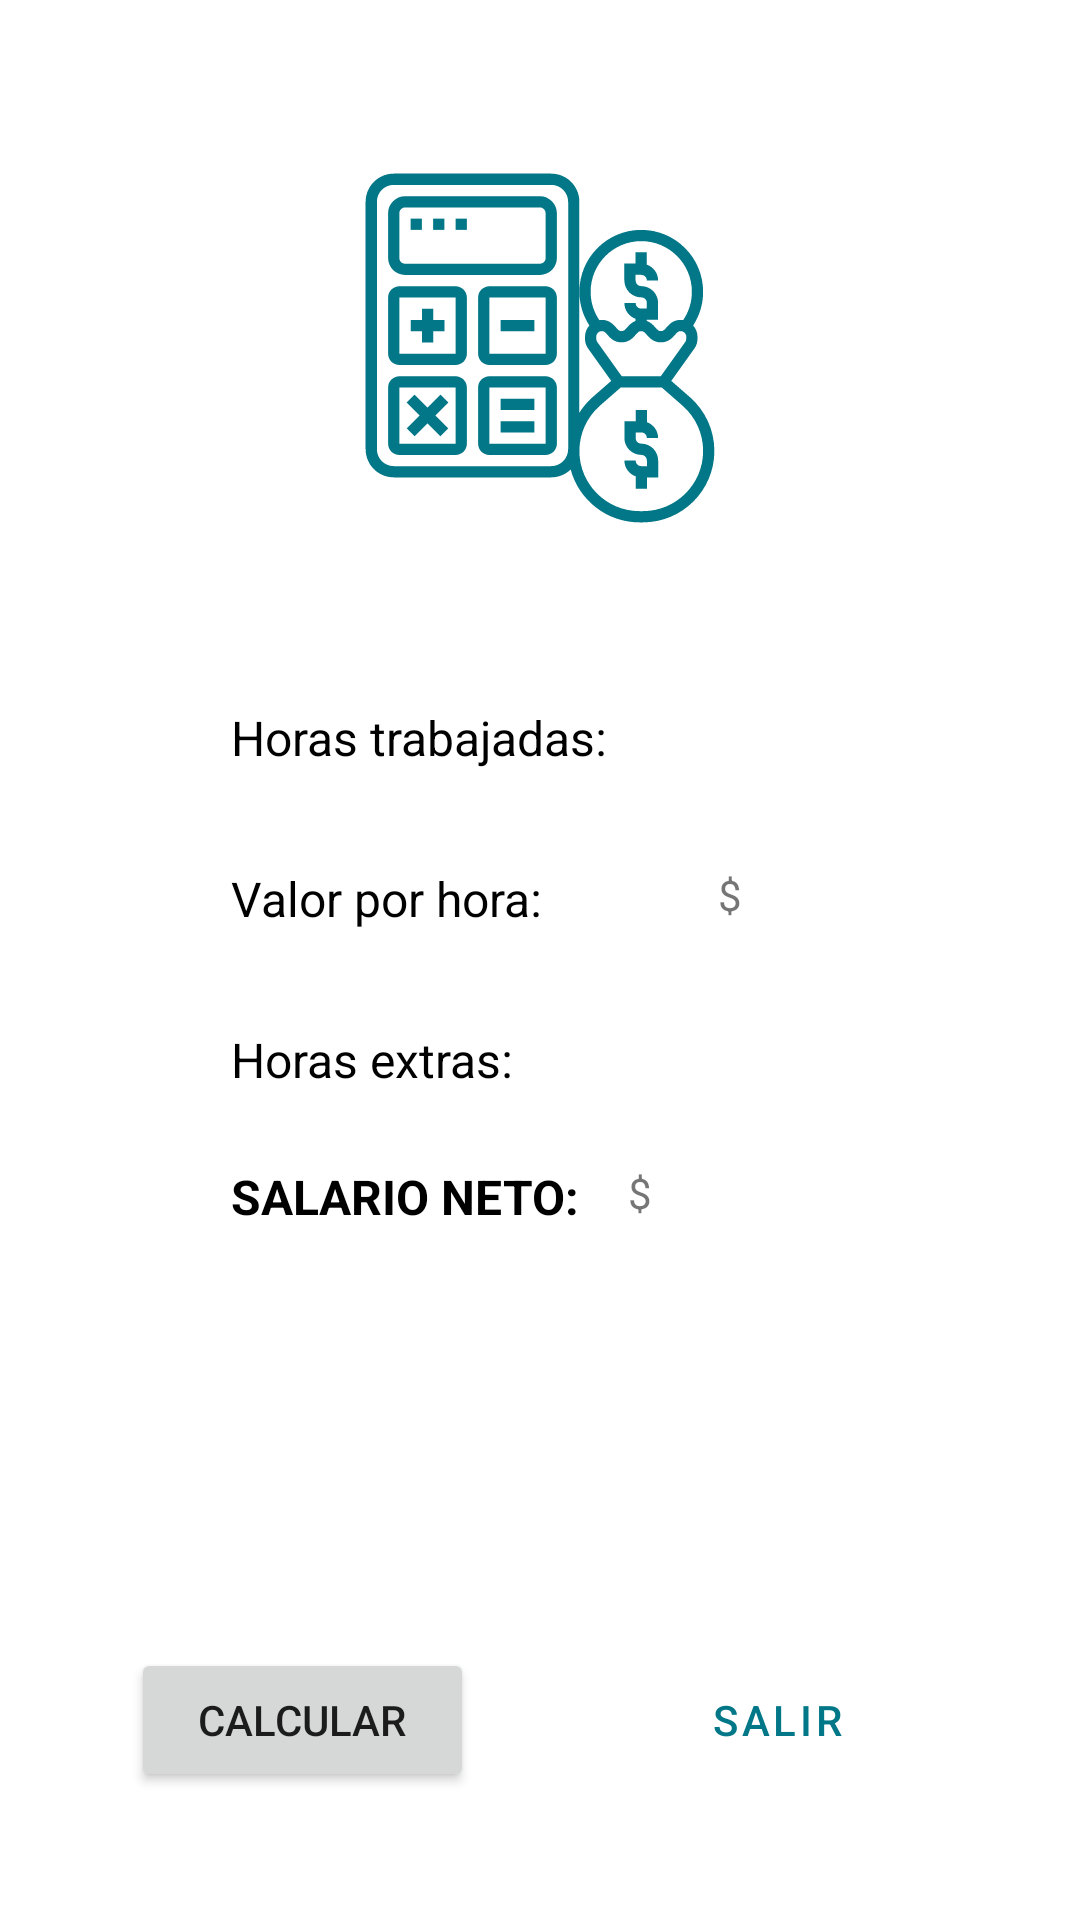

Named icons in this screenshot (1080px×1920px) and their bounding boxes, (x1, y1, x2, y2):
salary: (365, 173, 715, 523)
